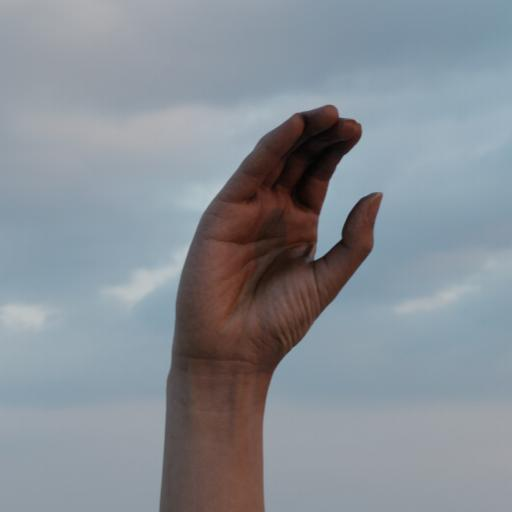C: (152, 94, 397, 512)
